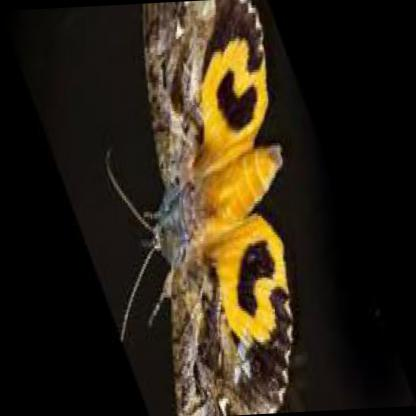fruit sucking moth: (144, 0, 291, 415)
